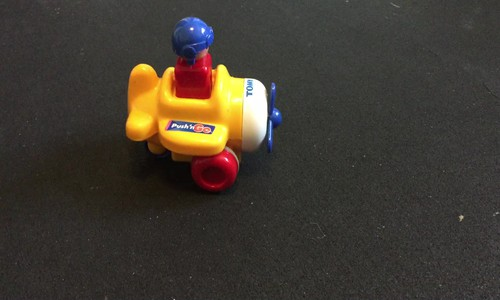toy: (117, 16, 289, 201)
